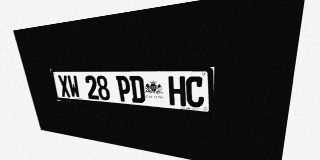2: (84, 75, 99, 100)
8: (96, 75, 111, 101)
C: (186, 76, 204, 108)
D: (129, 76, 146, 103)
H: (168, 76, 186, 106)
P: (116, 76, 132, 102)
W: (67, 75, 81, 98)
X: (57, 75, 71, 97)
